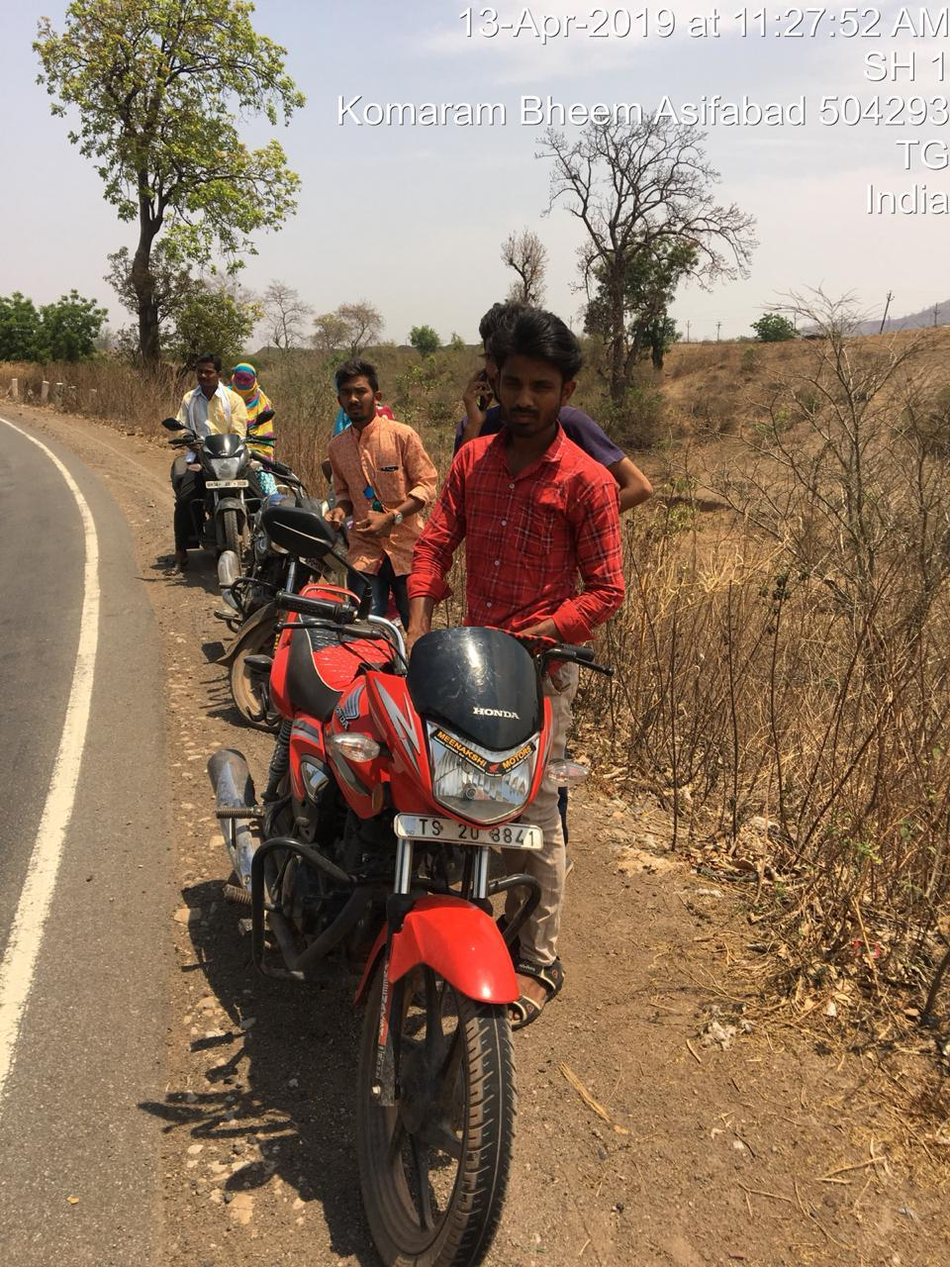plate: (356, 794, 573, 879)
